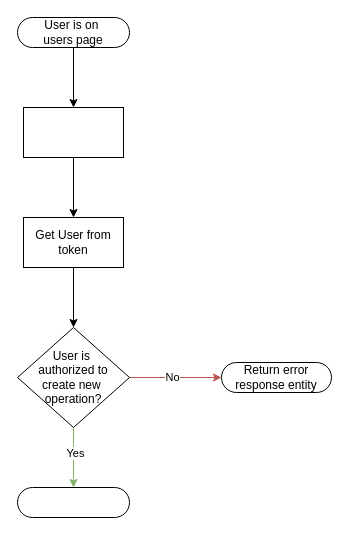
The diagram is 349 pixels wide and 535 high, and some of its shapes have lost their labels. Each missing label, with the centre of its shape:
"Get Authorization token from header" goes at point 73,132.
"Return response entity with user list" goes at point 73,502.
